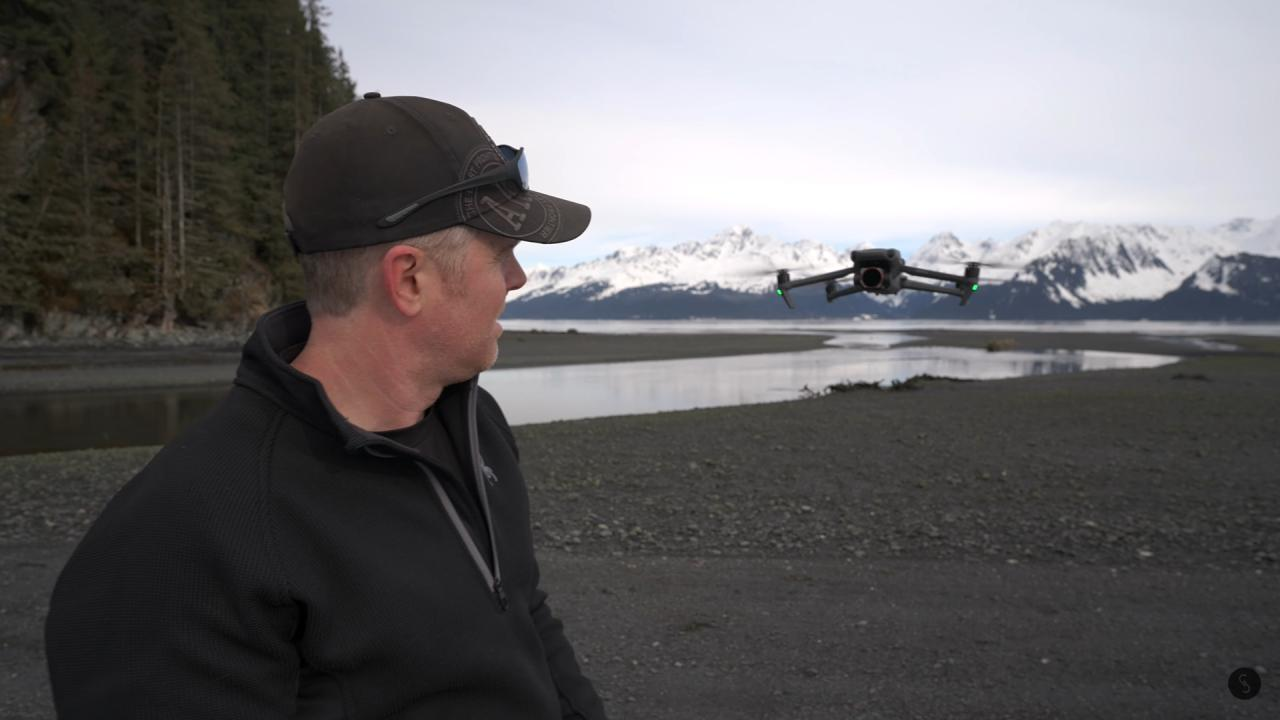Drone: (716, 232, 1033, 324)
